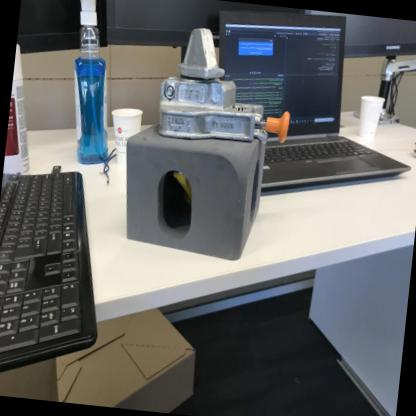CornerCasting: (113, 120, 272, 265)
Twistlock: (134, 20, 300, 148)
